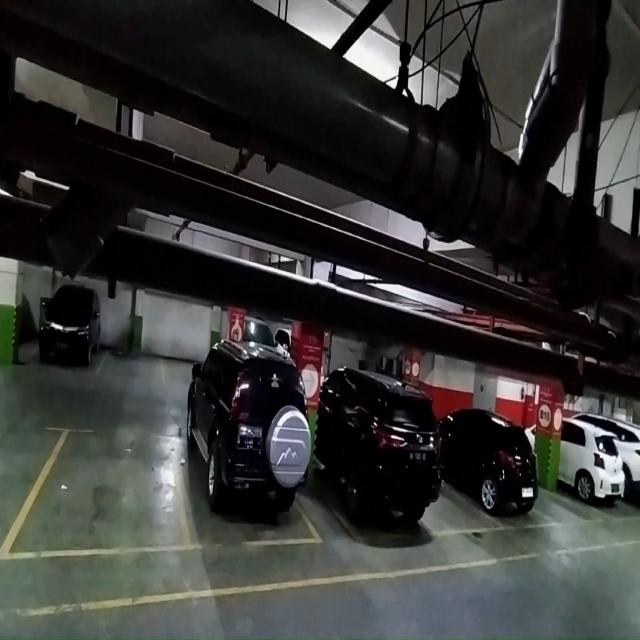empty: (39, 428, 186, 554)
occupied: (186, 396, 311, 543), (313, 403, 443, 538), (444, 420, 542, 529)
